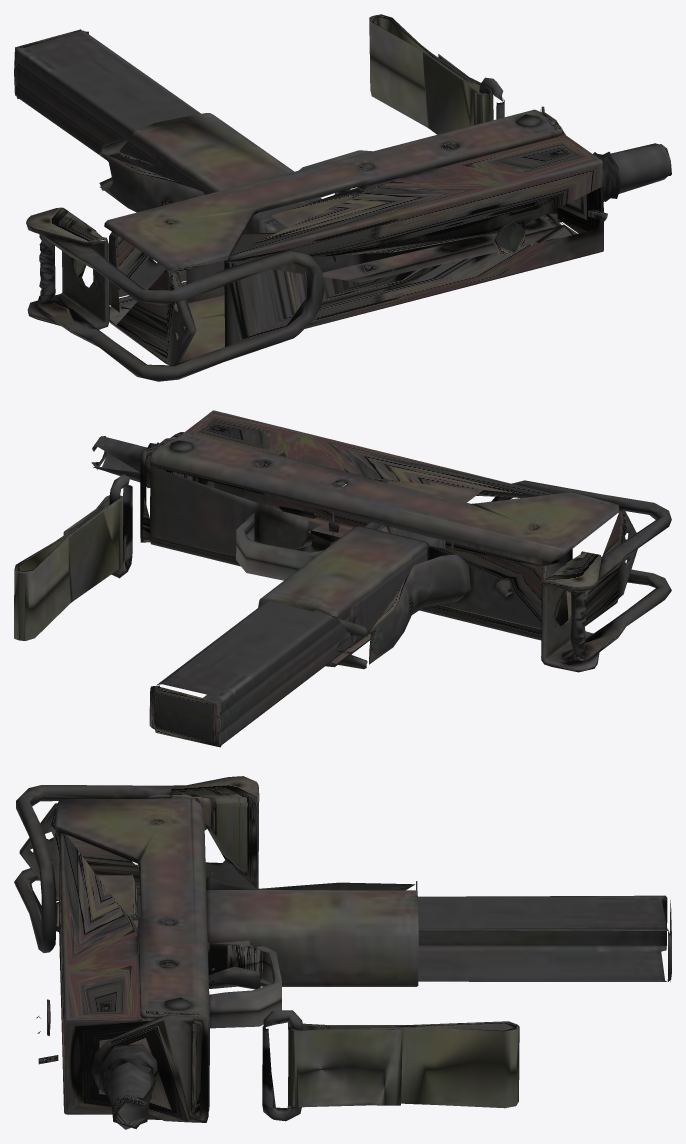
File: p_mac10.glb
The picture shows the model from 3 angles, top to bottom: view 1: azimuth 30°, elevation 25°; view 2: azimuth 150°, elevation 25°; view 3: azimuth 270°, elevation 25°; orthographic projection. The views are drawn at different scales.
Parts seen in each view (by area): view 1: p_mac10; view 2: p_mac10; view 3: p_mac10.
Part boxes in pixels (box(x1,y1,x2,y2)): p_mac10: box(14, 14, 671, 381); p_mac10: box(14, 410, 671, 747); p_mac10: box(14, 776, 671, 1129).
Bounding box in the file's own units: 0.4077 × 0.0735 × 0.383.
Materials: 1 (1 with a texture image).
